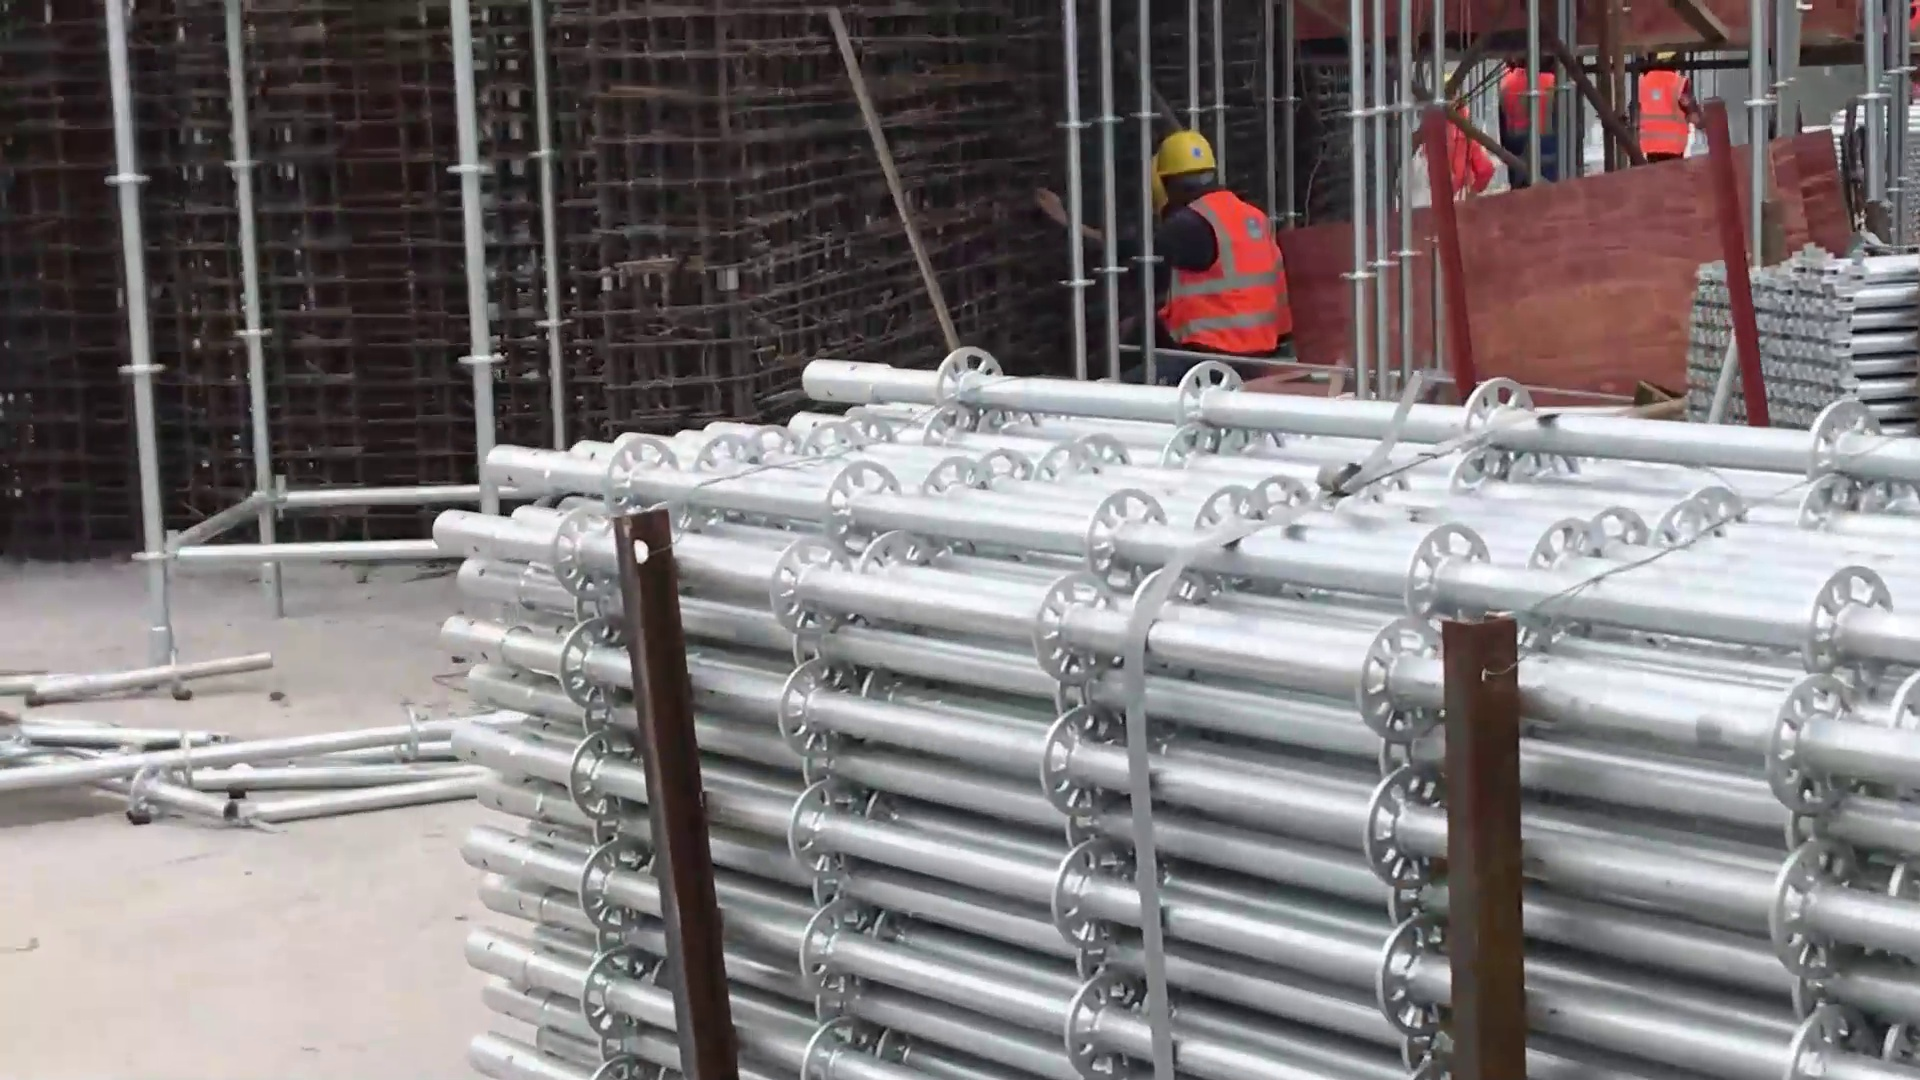helmet: (1143, 120, 1239, 177)
person: (1133, 127, 1296, 357)
vest: (1151, 193, 1300, 353), (1624, 53, 1696, 170), (1502, 57, 1583, 145), (1431, 115, 1489, 195)
